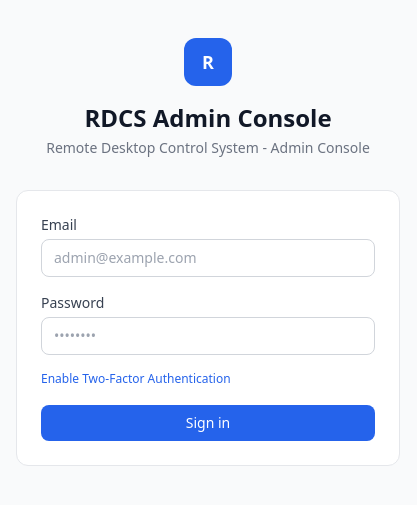
Test: LoginPage › shows TOTP field after clicking "Enable Two-Factor Authentication"
This screenshot has width=417, height=505.
Expected: the field labelled "Two-Factor Authentication Code" is not shown
Step 1. Click the button "Enable Two-Factor Authentication" → point(136, 379), box [41,371,231,387]
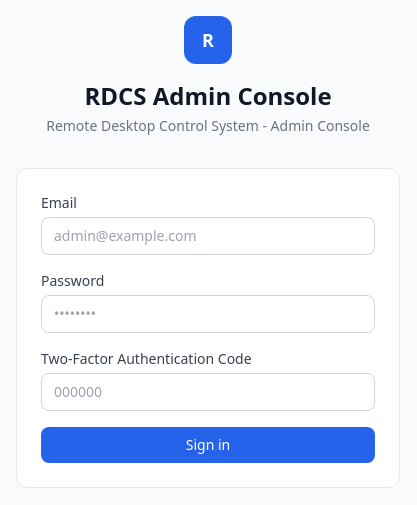
Result: the field labelled "Two-Factor Authentication Code" is shown at [41,373,375,411]
